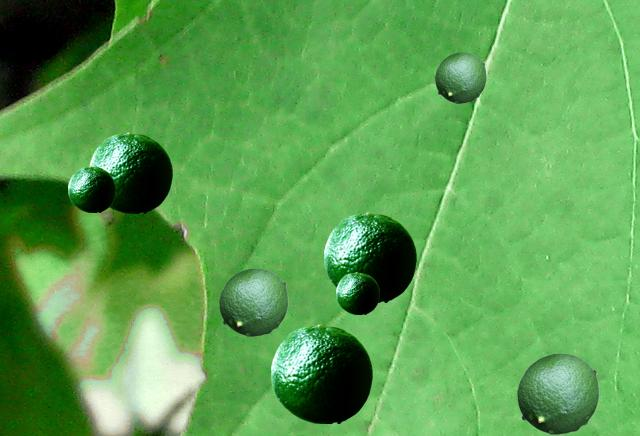calamansi: (271, 324, 371, 422), (324, 212, 415, 301), (89, 132, 171, 212), (517, 353, 598, 433), (219, 268, 287, 335), (435, 52, 485, 102), (68, 166, 114, 211), (336, 272, 378, 313)
